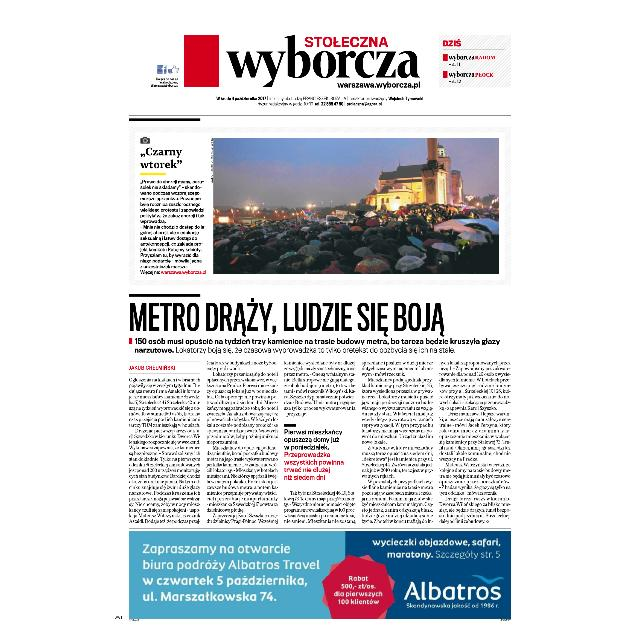article: (128, 292, 514, 526), (128, 116, 504, 280)
